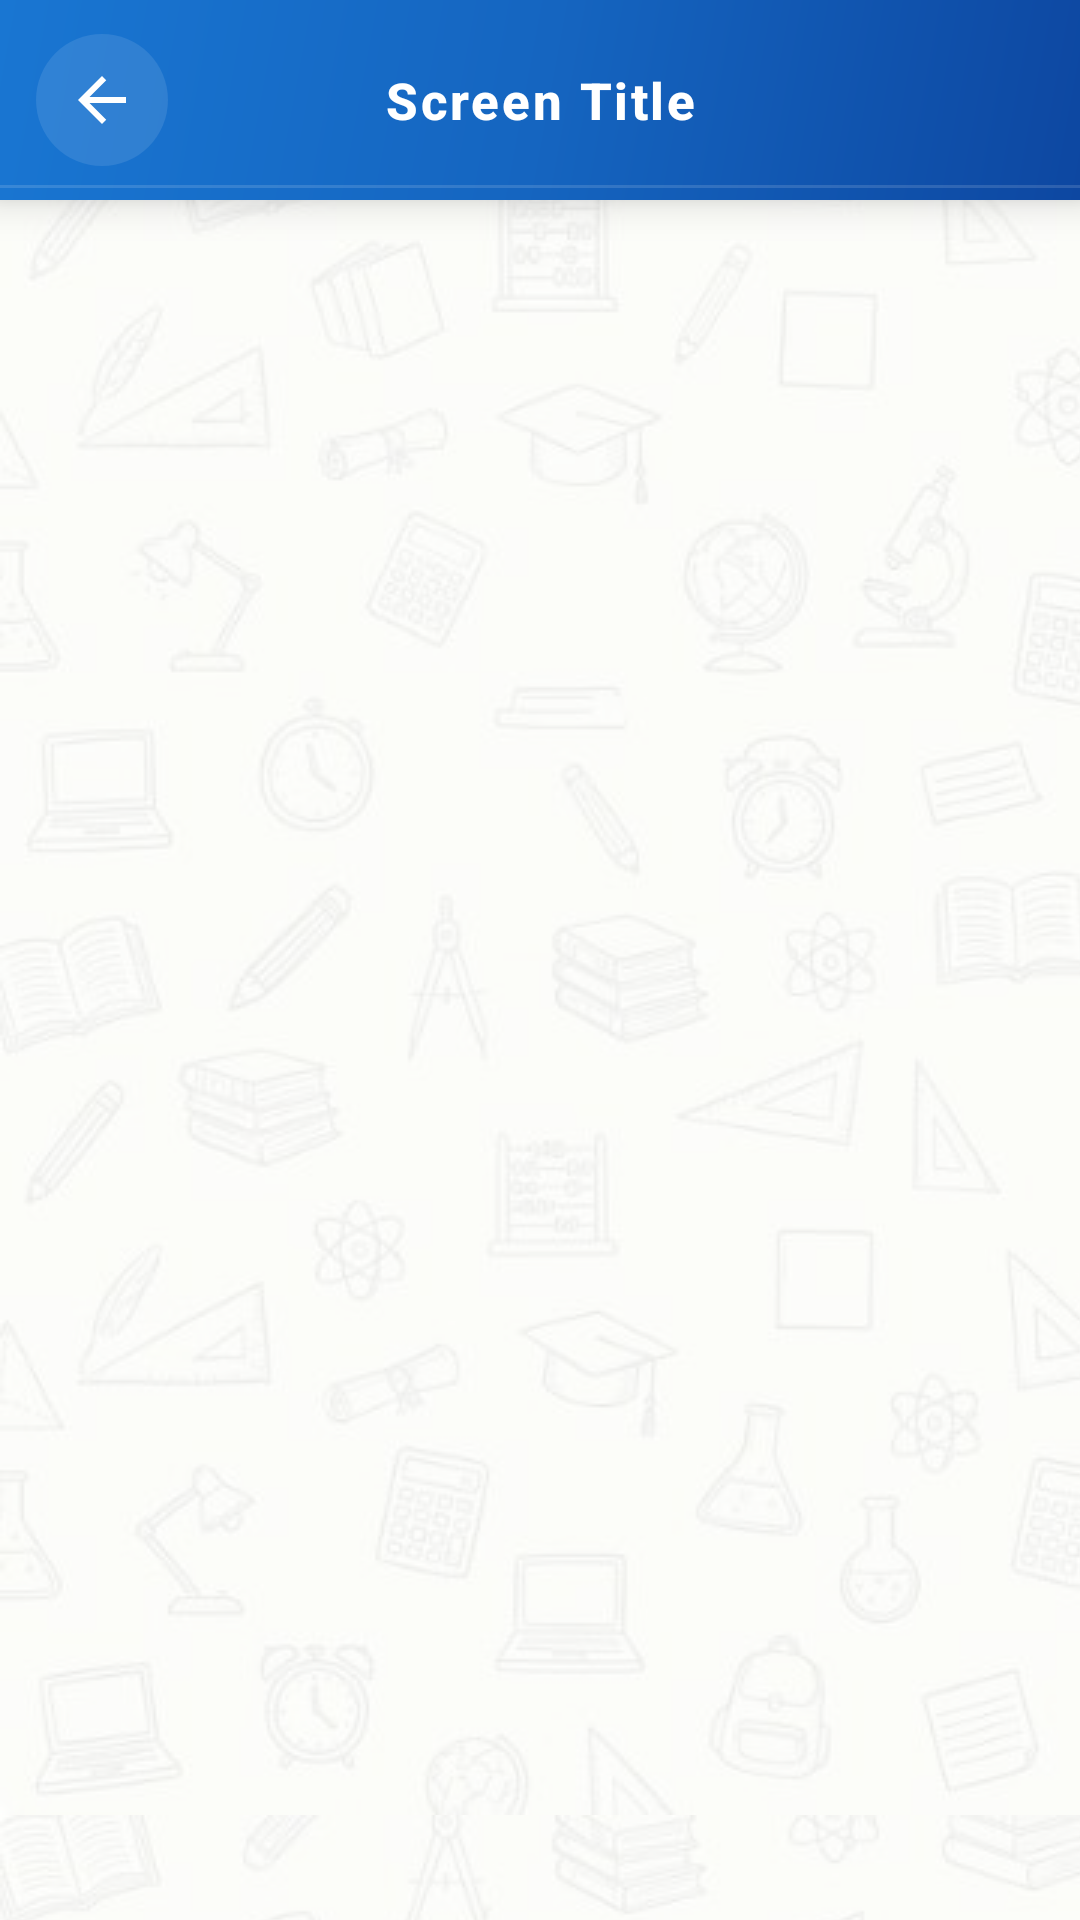

Screen size 1080*1920. Icon name, then its center in pixels as (x=x, y=y):
Back: (x=102, y=100)
